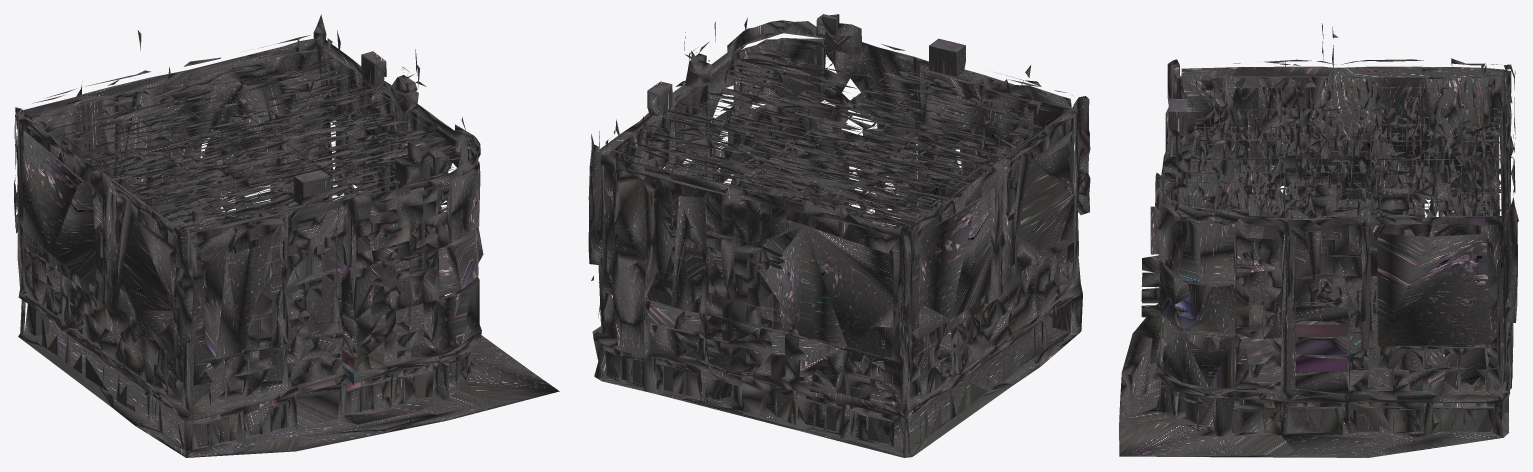
Rendered from station-screens.glb.
3 views of the same model, side by side, from view 1: azimuth 30°, elevation 25°; view 2: azimuth 150°, elevation 25°; view 3: azimuth 270°, elevation 25° (orthographic). The views are drawn at different scales.
Visible parts, largest first — view 1: output_unwrapped; view 2: output_unwrapped; view 3: output_unwrapped.
Boxes of the visible parts, left/top/right/bottom form: output_unwrapped: left=14, top=14, right=559, bottom=457; output_unwrapped: left=588, top=14, right=1090, bottom=457; output_unwrapped: left=1119, top=23, right=1518, bottom=457.
Bounding box in the file's own units: 1.89 × 1.43 × 1.86.
1 material, 1 textured.
